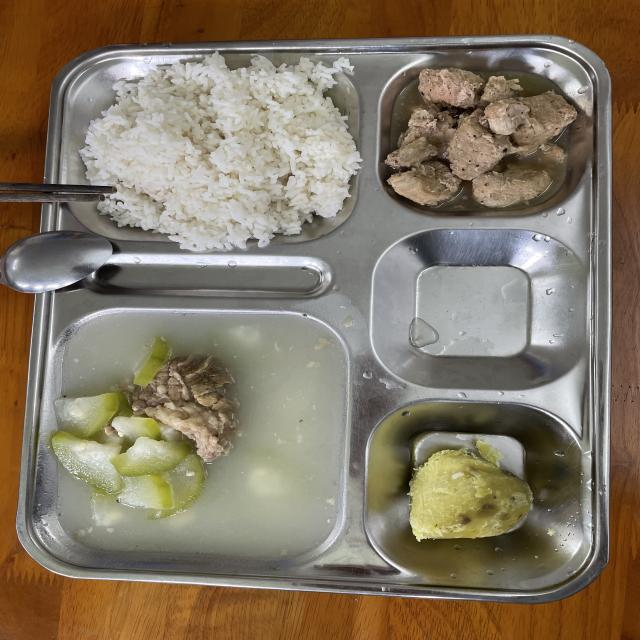canh bau: (47, 312, 346, 560)
com: (80, 53, 362, 250)
kho tieu: (385, 68, 578, 207)
